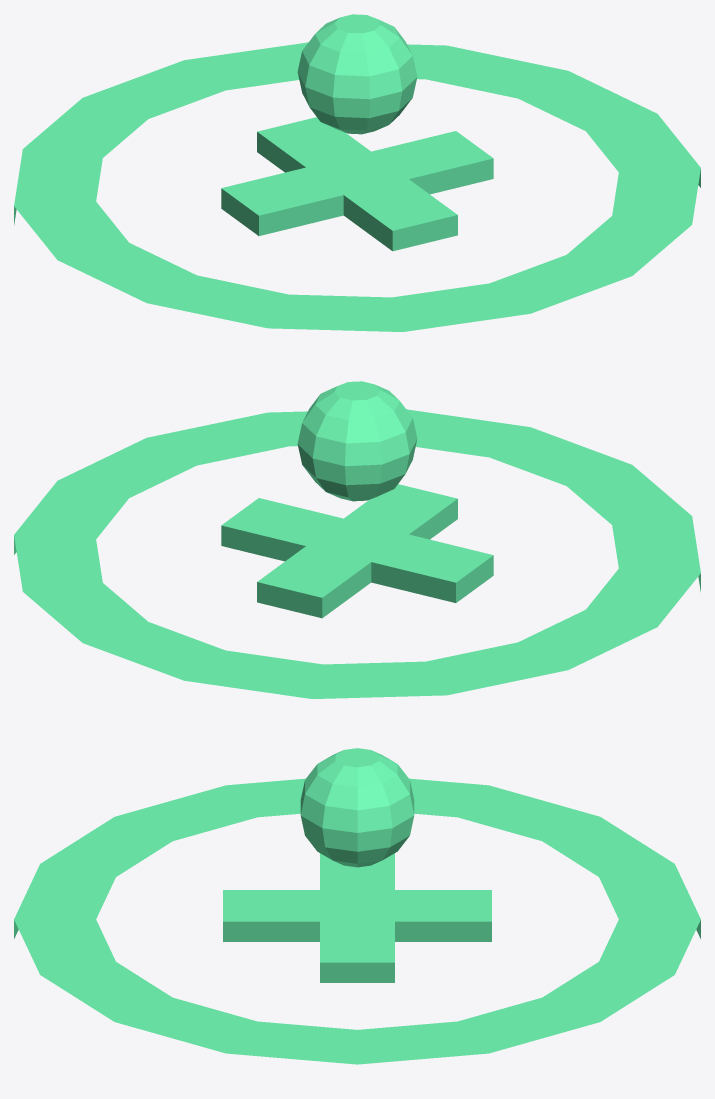
Rendered from spell_healing_glyph.glb.
The picture shows the model from 3 angles, top to bottom: view 1: azimuth 30°, elevation 25°; view 2: azimuth 150°, elevation 25°; view 3: azimuth 270°, elevation 25°; orthographic projection.
Visible parts, largest first — view 1: SpellHealingGlyph_Node; view 2: SpellHealingGlyph_Node; view 3: SpellHealingGlyph_Node.
Boxes of the visible parts, x1,y1,x2,y2 form: SpellHealingGlyph_Node: (14, 14, 700, 331); SpellHealingGlyph_Node: (14, 381, 700, 698); SpellHealingGlyph_Node: (14, 748, 700, 1064).
Bounding box in the file's own units: 0.92 × 0.275 × 0.92.
